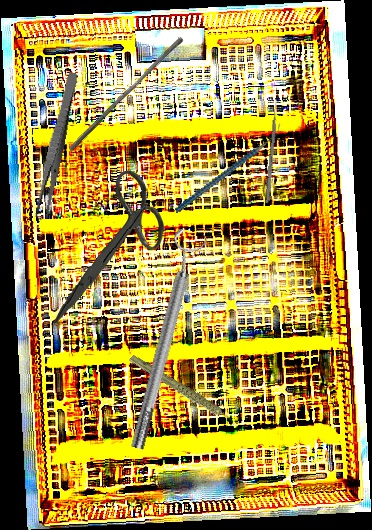Chopper: (159, 121, 297, 214)
Dressing Forceps: (33, 71, 80, 220)
Fixation Ring: (118, 227, 211, 453)
Handpiece: (127, 336, 237, 447)
Iris Scissors: (52, 166, 168, 329)
Pusher: (67, 32, 185, 157), (265, 95, 279, 203)
